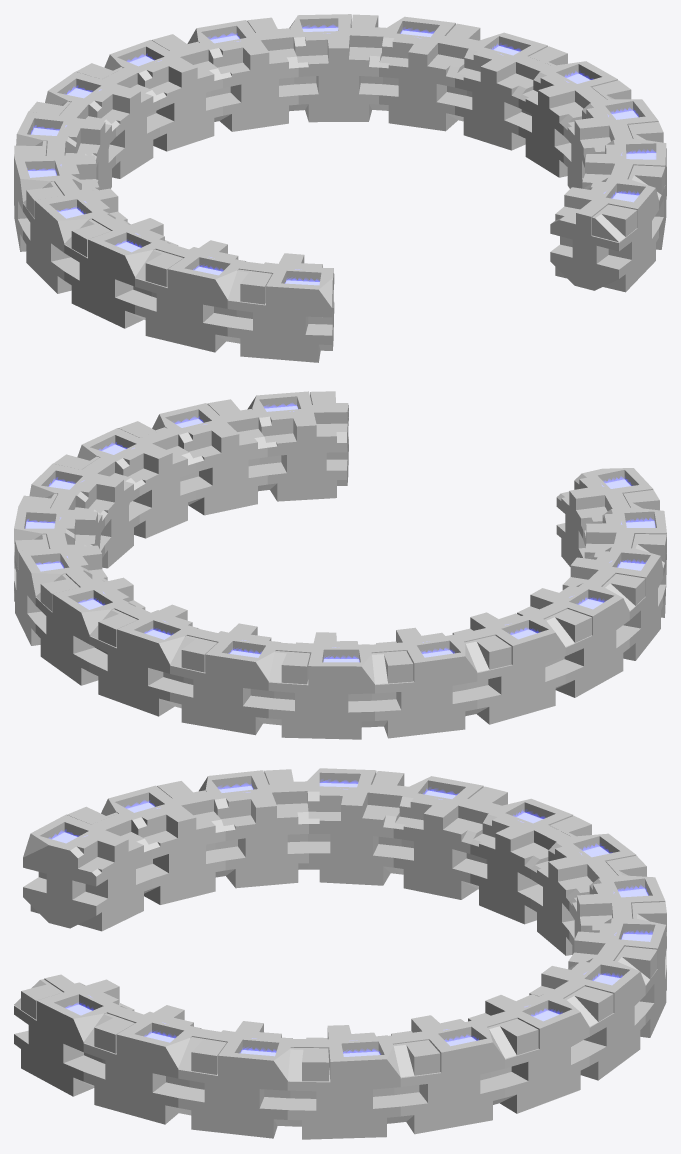
The model's file is StargateTuLeC.fbx.
3 renders of one model, top to bottom at view 1: azimuth 30°, elevation 25°; view 2: azimuth 150°, elevation 25°; view 3: azimuth 270°, elevation 25°, orthographic. The views are drawn at different scales.
Visible parts, largest first — view 1: StargateTuLeC_Baked; view 2: StargateTuLeC_Baked; view 3: StargateTuLeC_Baked.
Part boxes in pixels (bbox=[...]): StargateTuLeC_Baked: bbox=[14, 14, 666, 362]; StargateTuLeC_Baked: bbox=[14, 391, 666, 739]; StargateTuLeC_Baked: bbox=[14, 768, 666, 1139].
Bounding box in the file's own units: 1618 × 200 × 1519.
